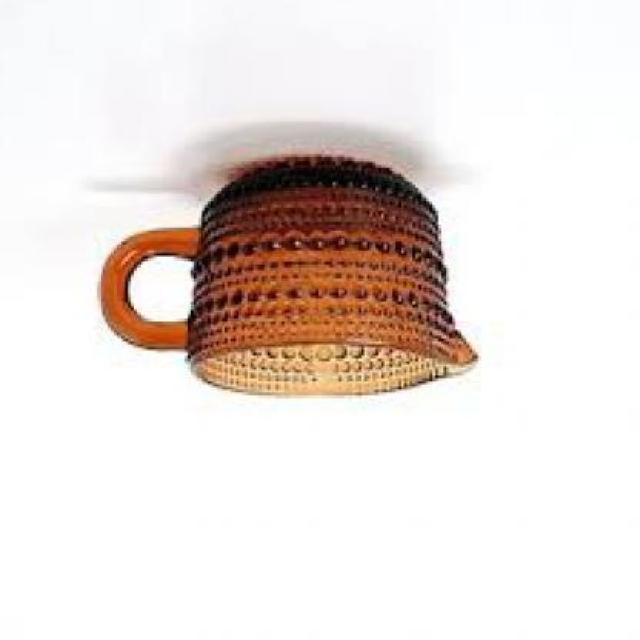glass: (103, 157, 485, 398)
